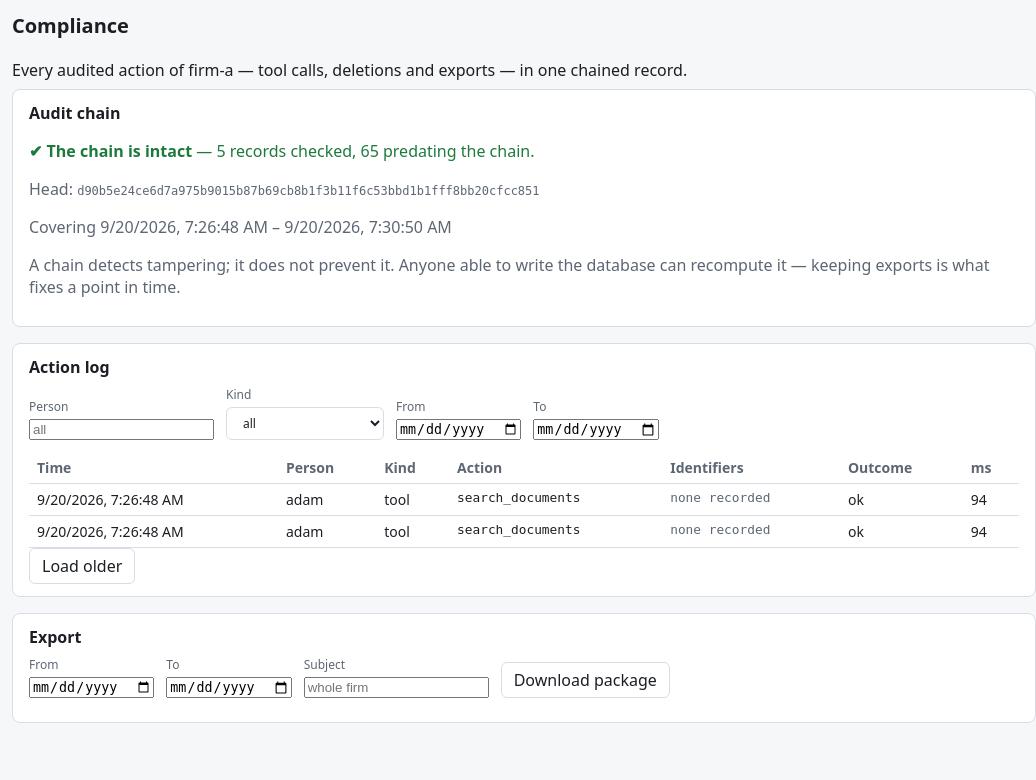
it: CompliancePage › appends older records when asked for more
Expected: the number of rows is 3, [29, 452, 1019, 484]; [29, 484, 1019, 516]; [29, 516, 1019, 548]
Click the button "Load older".
click(82, 566)  # box [29, 548, 135, 584]
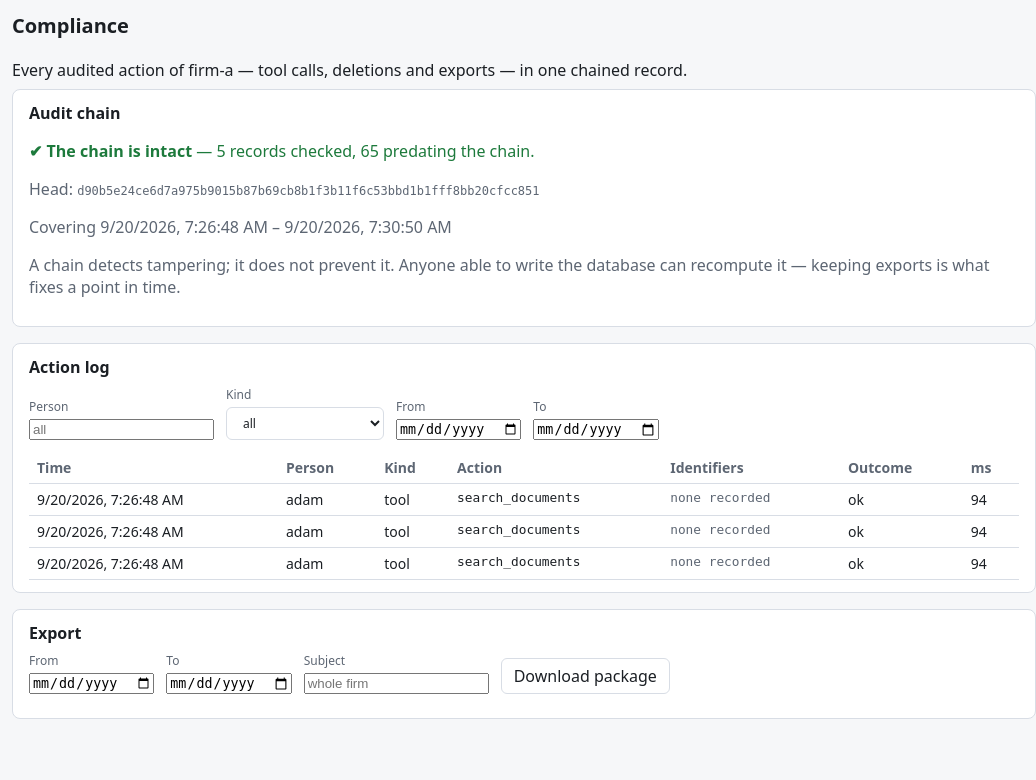
Expected: the number of rows is 4, [29, 452, 1019, 484]; [29, 484, 1019, 516]; [29, 516, 1019, 548]; [29, 548, 1019, 580]
Expected: the button "Load older" is gone
